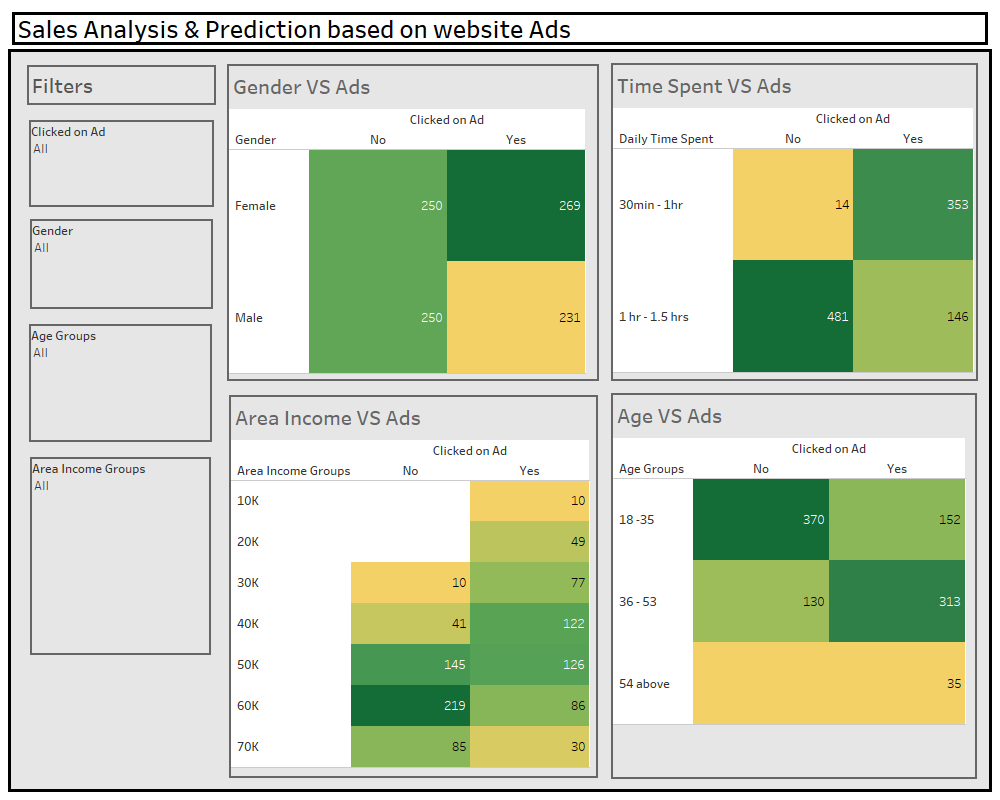

The dashboard page shown, as its layout file describes it:
{"tool":"tableau","page":{"name":"Dashboard 1","canvas":[1000,800],"ordinal":0},"visuals":[{"type":"title","box":[8,8,984,41]},{"type":"worksheet","title":"Time Spent vs Ads","mark":"Square","rows":["Daily Time Spent on Site (bin)"],"cols":["Clicked on Ad"],"box":[611,63,367,318]},{"type":"worksheet","title":"Gender vs Ads","mark":"Square","rows":["Male"],"cols":["Clicked on Ad"],"box":[227,64,372,317]},{"type":"text","box":[27,65,189,40]},{"type":"filter","title":"Gender vs Ads","param":"[federated.13dj0w21xxr5wi1av6shl1s35wfa].[none:Clicked on Ad:ok]","box":[29,120,185,87]},{"type":"filter","title":"Gender vs Ads","param":"[federated.13dj0w21xxr5wi1av6shl1s35wfa].[none:Male:ok]","box":[30,219,183,90]},{"type":"filter","title":"Age vs Ads","param":"[federated.13dj0w21xxr5wi1av6shl1s35wfa].[none:Age (bin):ok]","box":[29,324,183,118]},{"type":"worksheet","title":"Age vs Ads","mark":"Square","rows":["Age (bin)"],"cols":["Clicked on Ad"],"box":[611,393,366,386]},{"type":"worksheet","title":"Area Income vs Ads","mark":"Square","rows":["Area Income (bin)"],"cols":["Clicked on Ad"],"box":[229,395,369,383]},{"type":"filter","title":"Area Income vs Ads","param":"[federated.13dj0w21xxr5wi1av6shl1s35wfa].[none:Area Income (bin):ok]","box":[30,457,181,198]}]}

Visuals, with their boxes in screenshot pixels (x1, y1, x2, y2), scaled from the page's 1000x800 canvas onto the 1000x800 screenshot:
title: bbox(8, 8, 992, 49)
"Time Spent vs Ads" worksheet (Square marks): bbox(611, 63, 978, 381)
"Gender vs Ads" worksheet (Square marks): bbox(227, 64, 599, 381)
text: bbox(27, 65, 216, 105)
"Gender vs Ads" filter: bbox(29, 120, 214, 207)
"Gender vs Ads" filter: bbox(30, 219, 213, 309)
"Age vs Ads" filter: bbox(29, 324, 212, 442)
"Age vs Ads" worksheet (Square marks): bbox(611, 393, 977, 779)
"Area Income vs Ads" worksheet (Square marks): bbox(229, 395, 598, 778)
"Area Income vs Ads" filter: bbox(30, 457, 211, 655)
